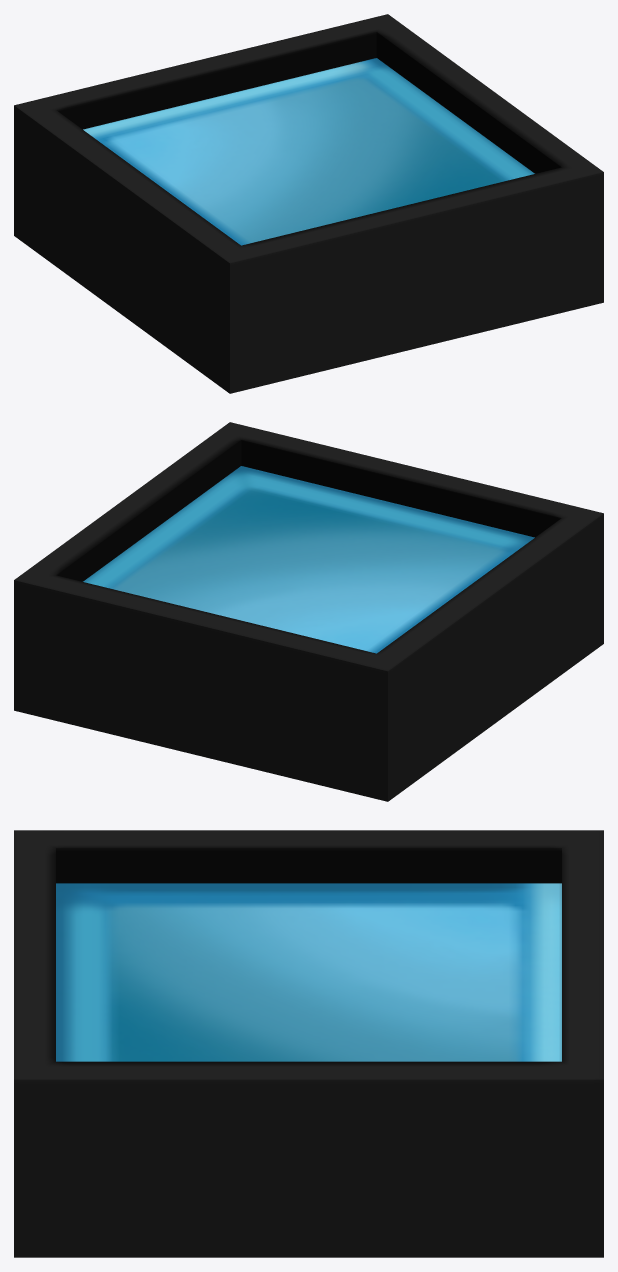
Rendered from WarpYuki.fbx.
The picture shows the model from 3 angles, top to bottom: view 1: azimuth 30°, elevation 25°; view 2: azimuth 150°, elevation 25°; view 3: azimuth 270°, elevation 25°; orthographic projection. The views are drawn at different scales.
Visible parts, largest first — view 1: warp_on_; view 2: warp_on_; view 3: warp_on_.
Part boxes in pixels (x1,y1,x2,y2): warp_on_: (14, 14, 603, 393); warp_on_: (14, 422, 603, 801); warp_on_: (14, 830, 603, 1257).
Bounding box in the file's own units: 6 × 2 × 6.
1 material, 1 textured.
